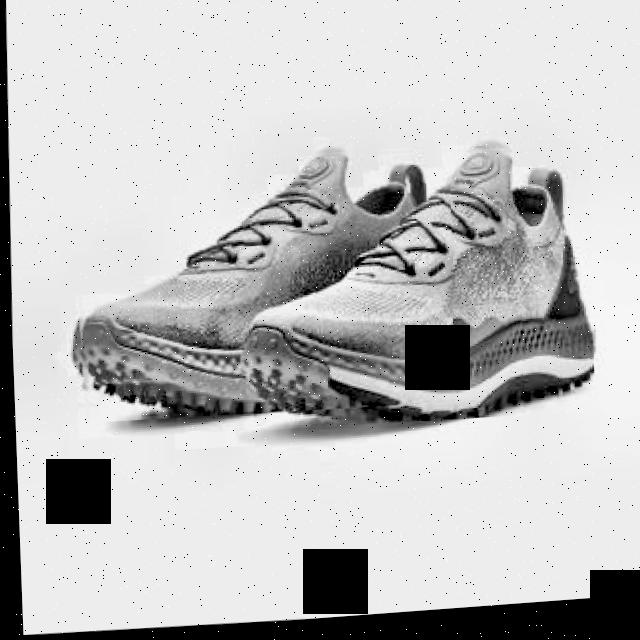shoe: (222, 138, 596, 441), (63, 142, 455, 431)
